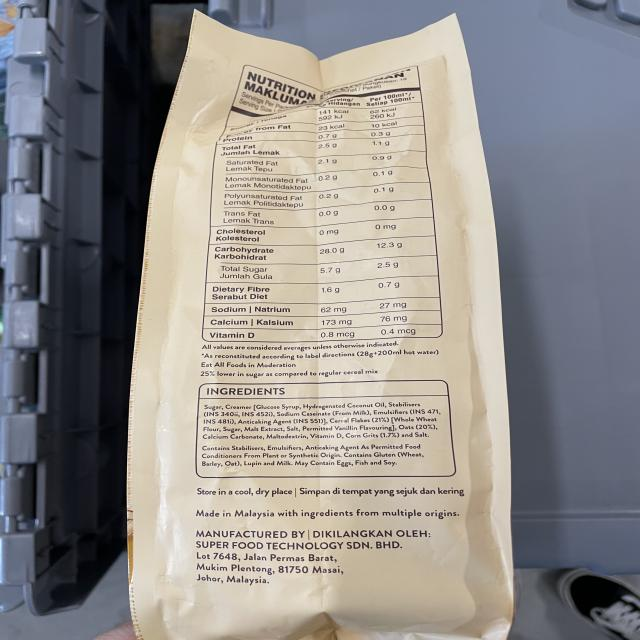object_name: (152, 18, 489, 640)
